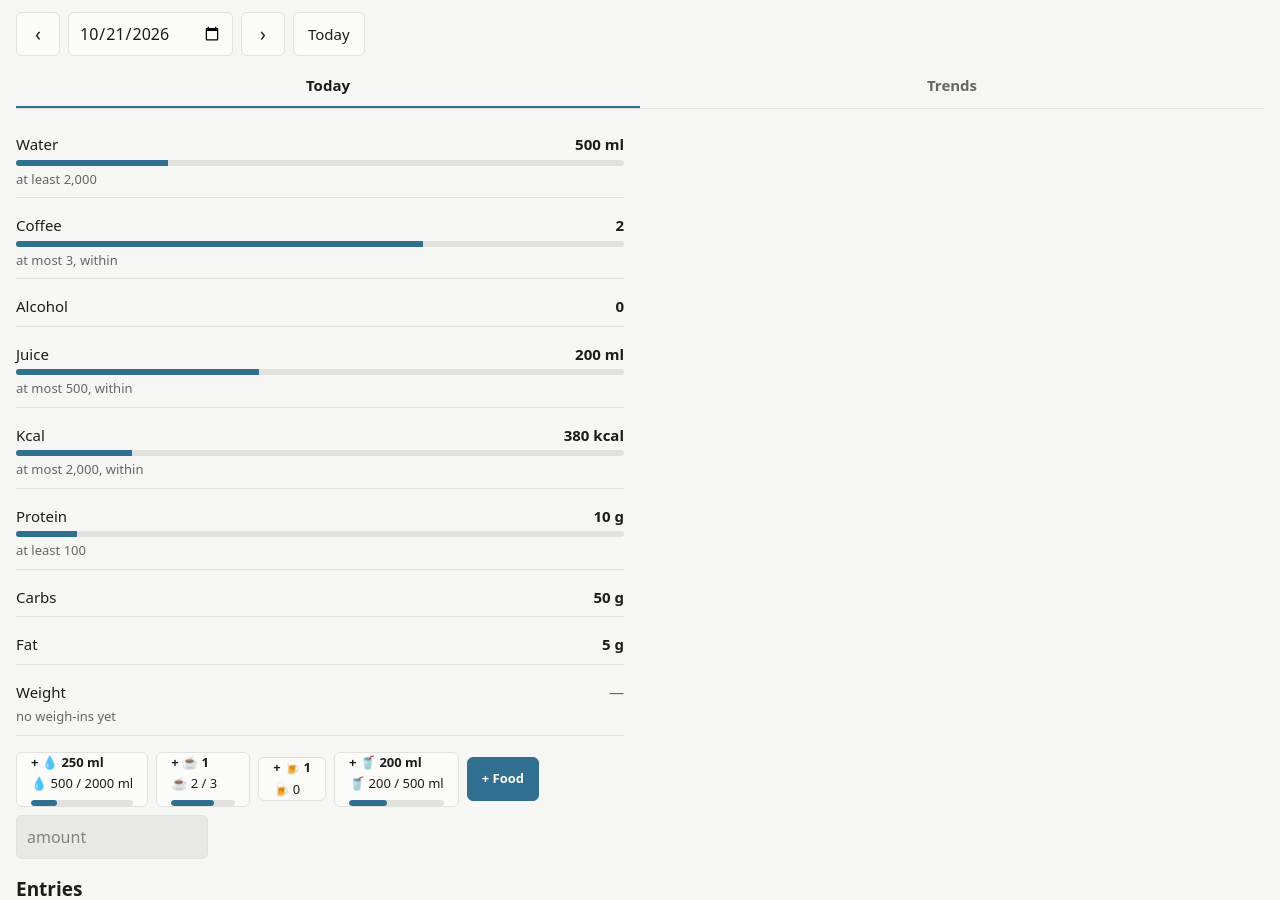
it: #624 Enter on a focused row button edits that row, not the cursor row
This screenshot has width=1280, height=900.
expect the text "500 ml" is shown: met, box [575,133,624,156]
Press j in the element named "Log"
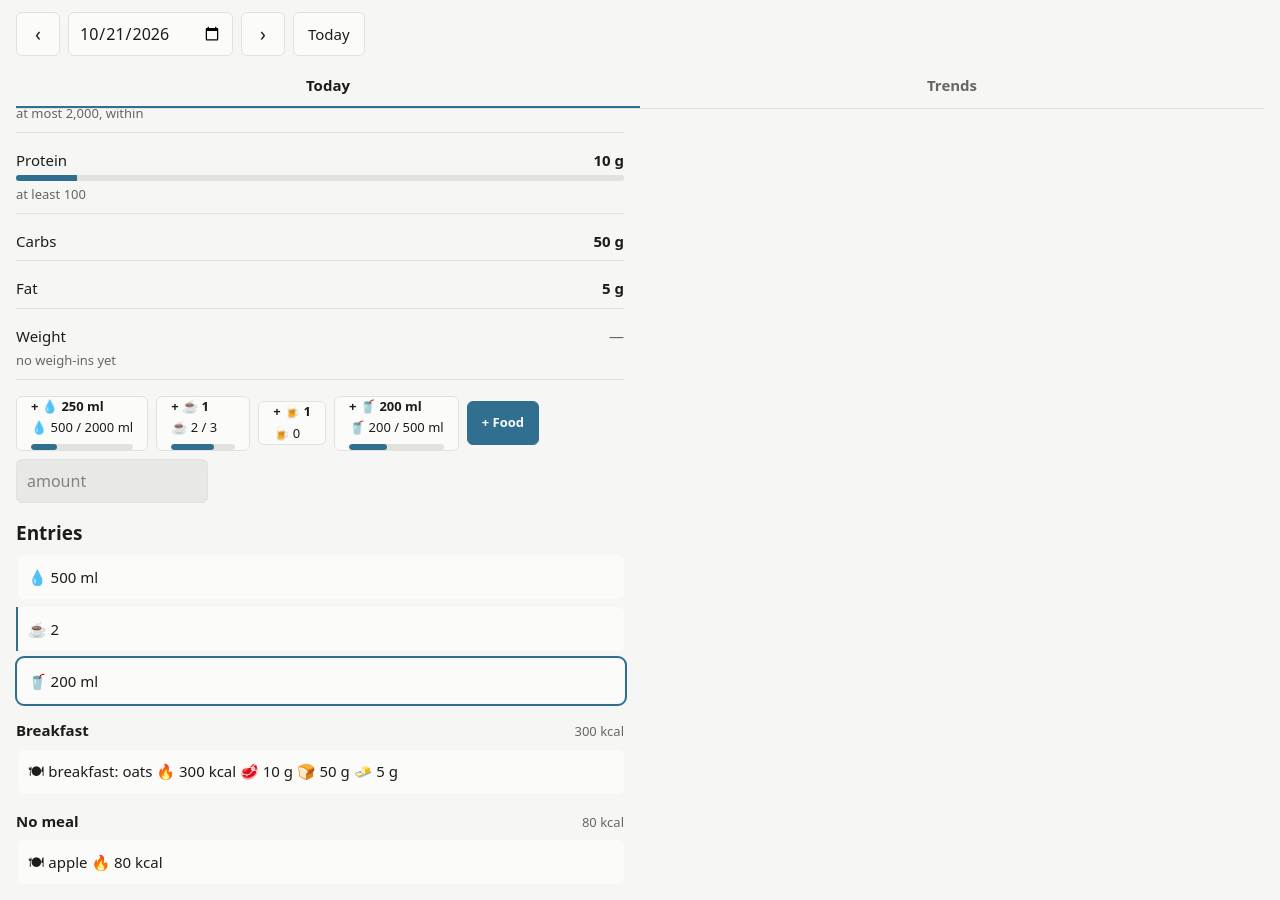
Press Enter in the button "🥤 200 ml", box [18,659,624,703]
Click the button "🥤 200 ml".
click(63, 681)  # box [18,659,624,703]
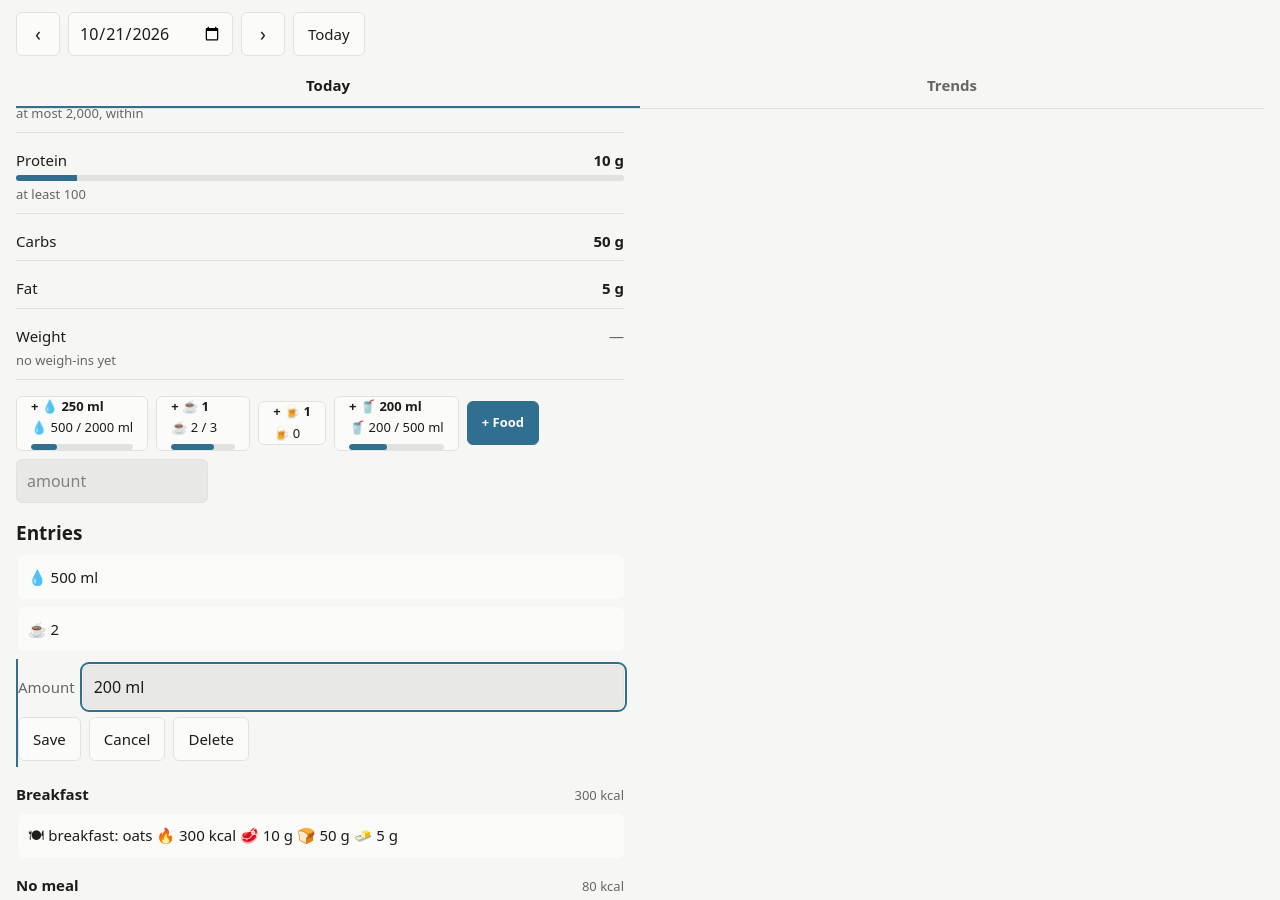
expect the field labelled "Amount" holds "200 ml": met, box [83,665,624,709]
